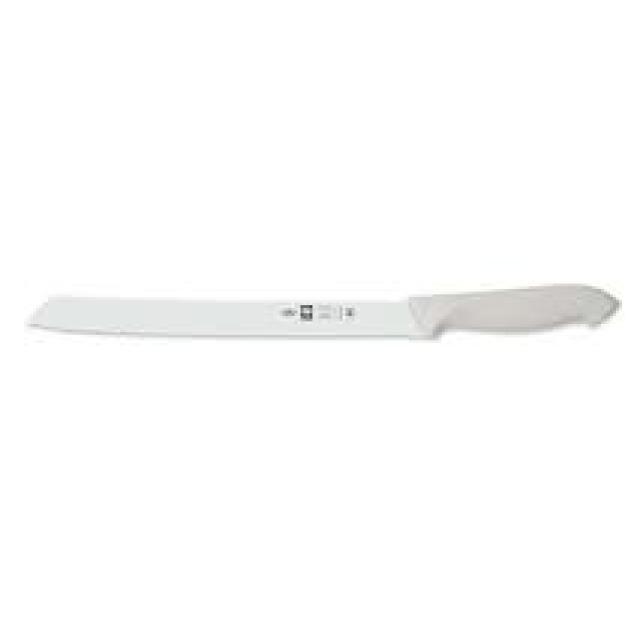Knife: (30, 281, 622, 340)
